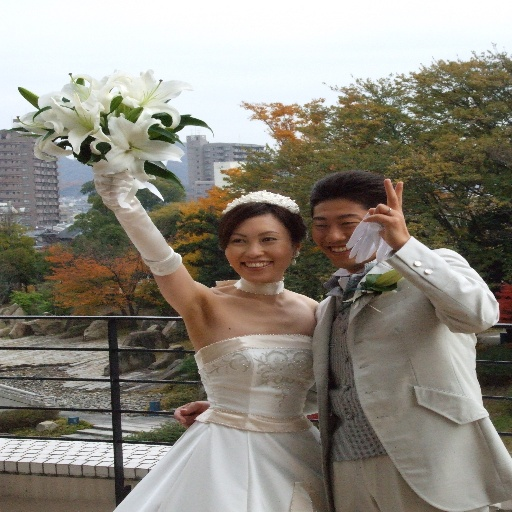hand: (374, 196, 427, 255), (90, 170, 138, 209), (172, 401, 215, 429)
